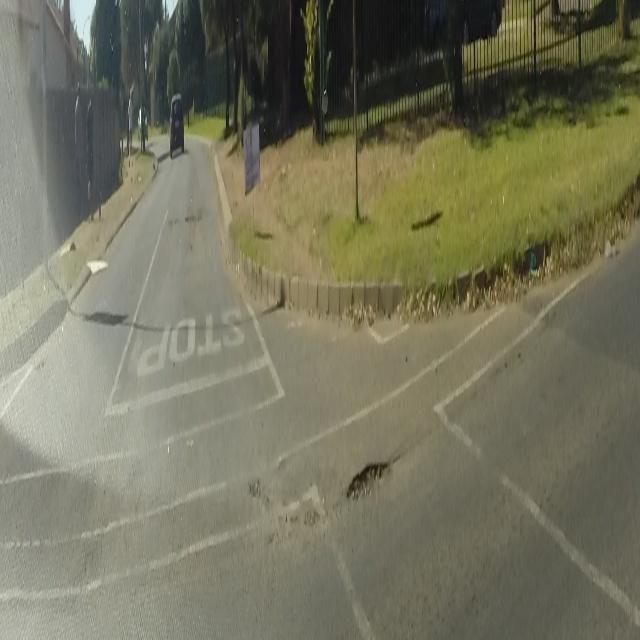pothole: (345, 448, 391, 500), (184, 208, 198, 225)
